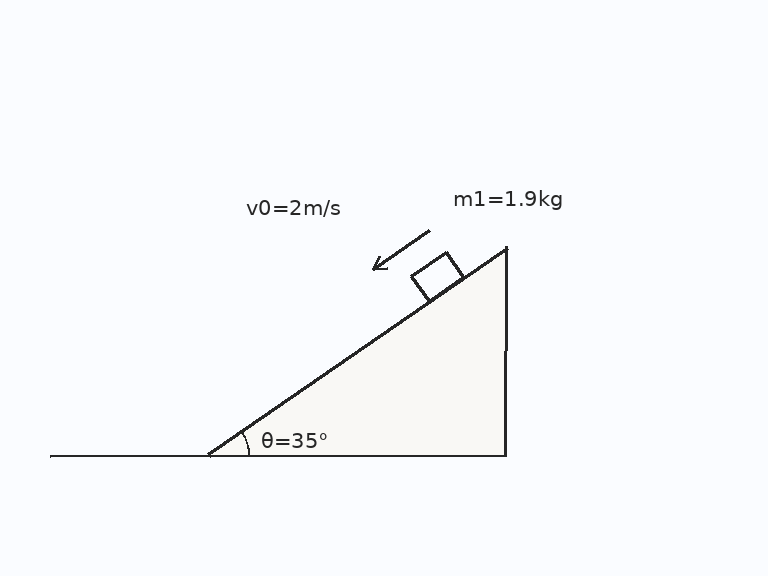block: (409, 250, 465, 303)
ramp: (207, 245, 508, 457)
